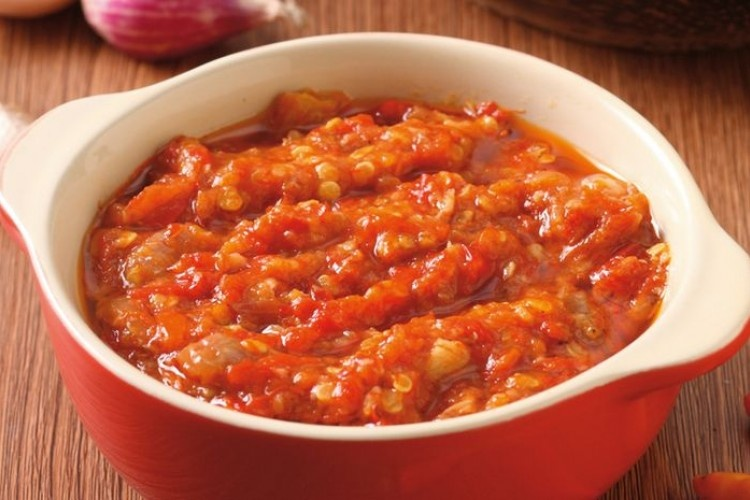sambal: (88, 83, 661, 426)
